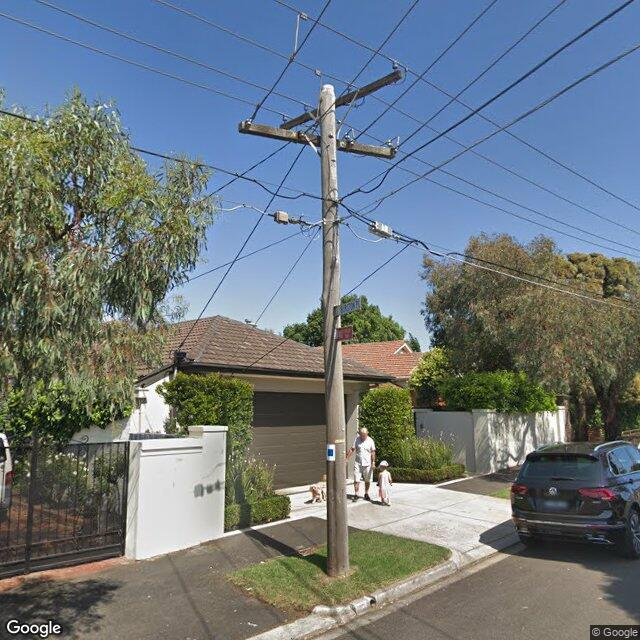crossarm: (280, 59, 408, 130), (238, 118, 401, 160)
timber-pole: (318, 83, 349, 578)
